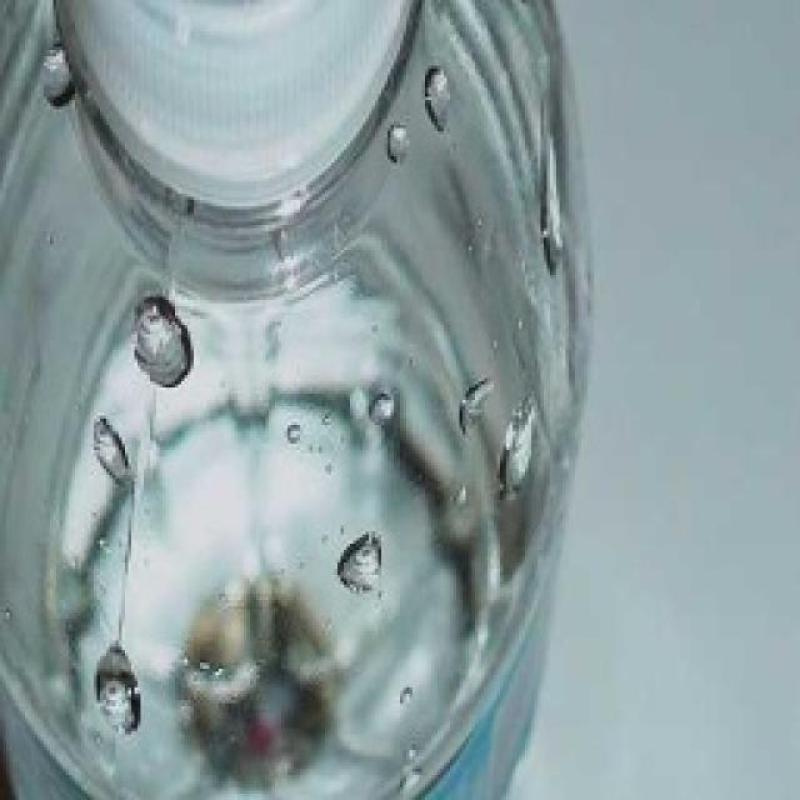botella: (0, 0, 594, 800)
